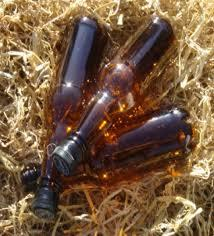Plastic bottle: (84, 17, 189, 172), (51, 19, 93, 219)
